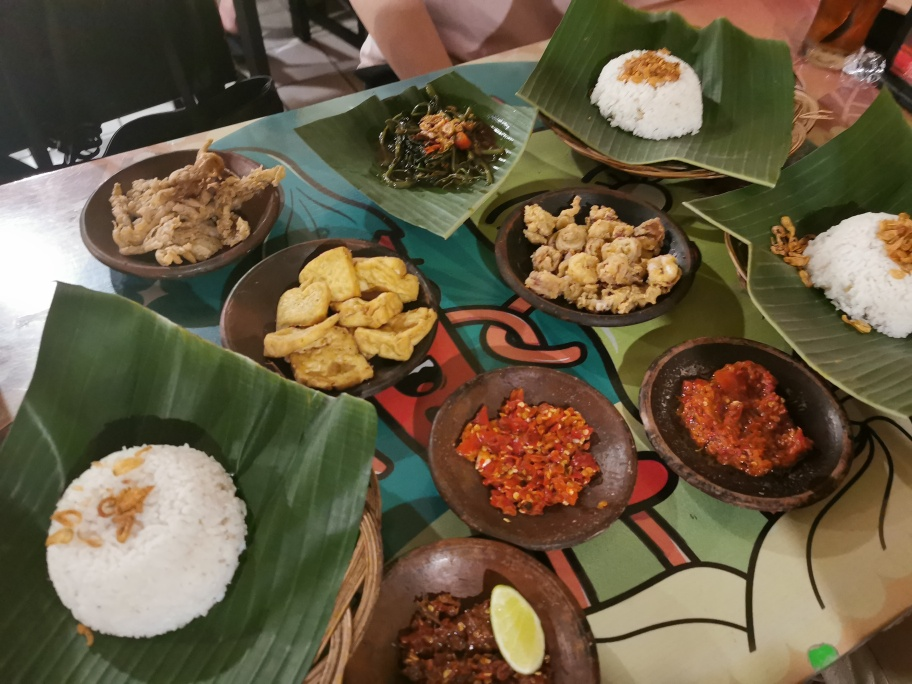nasi putih: (45, 442, 252, 635), (590, 47, 707, 140)
